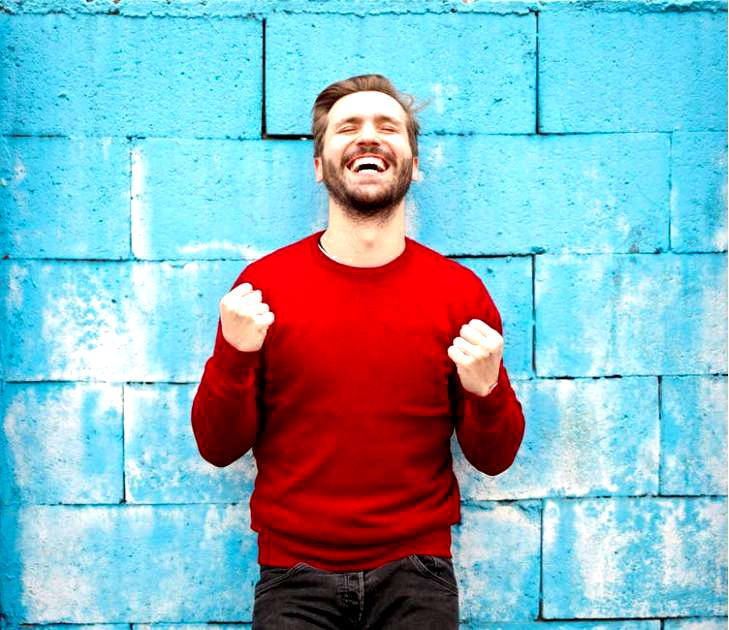face: (322, 91, 413, 207)
